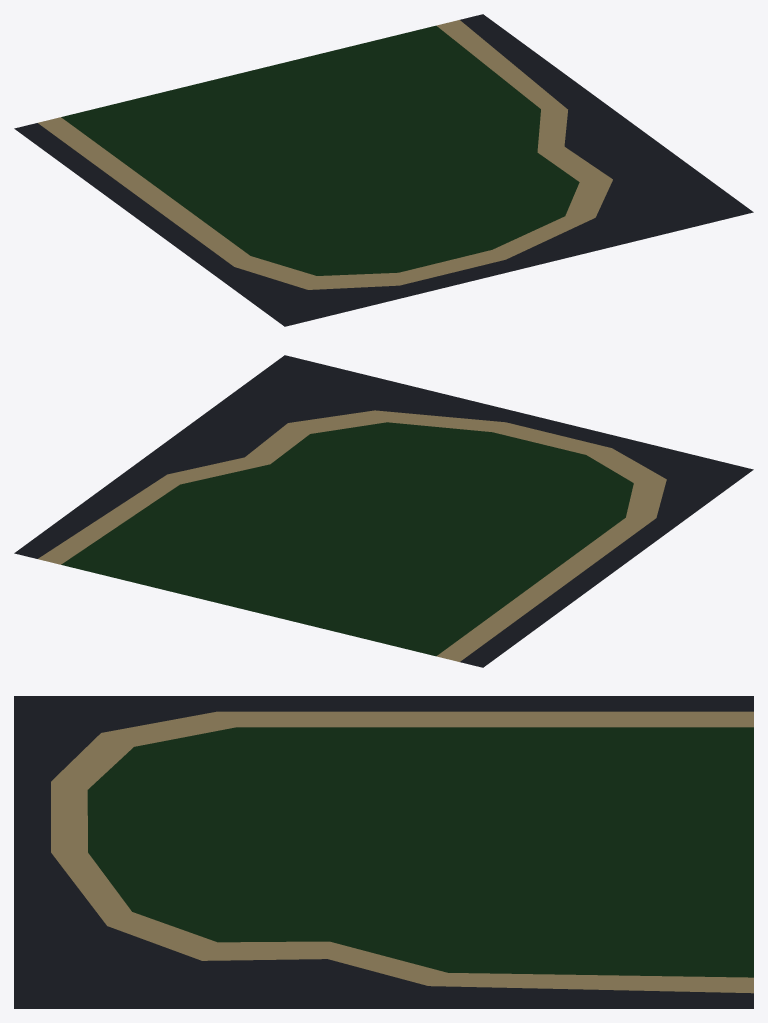
Rendered from terrain_plains_penninsula2.fbx.
3 renders of one model, top to bottom at view 1: azimuth 30°, elevation 25°; view 2: azimuth 150°, elevation 25°; view 3: azimuth 270°, elevation 25°, orthographic. The views are drawn at different scales.
Visible parts, largest first — view 1: terrain_plains_penninsula2; view 2: terrain_plains_penninsula2; view 3: terrain_plains_penninsula2.
Part boxes in pixels (box(x1,y1,x2,y2)): terrain_plains_penninsula2: box(14, 14, 753, 326); terrain_plains_penninsula2: box(14, 355, 753, 667); terrain_plains_penninsula2: box(14, 696, 753, 1008).
Bounding box in the file's own units: 10 × 5.96e-08 × 10.
